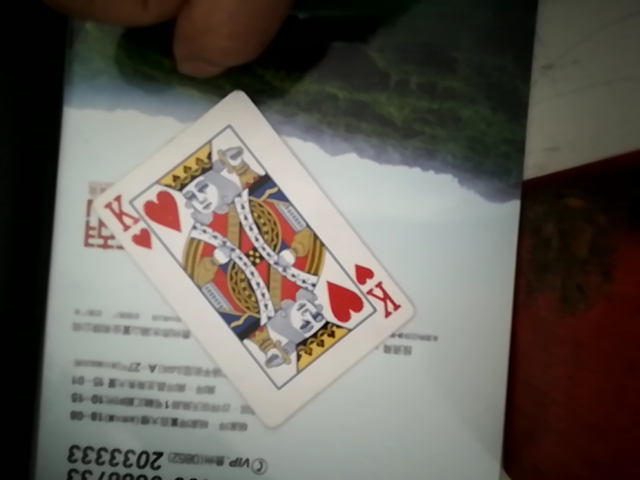hx k: (67, 81, 424, 400)
